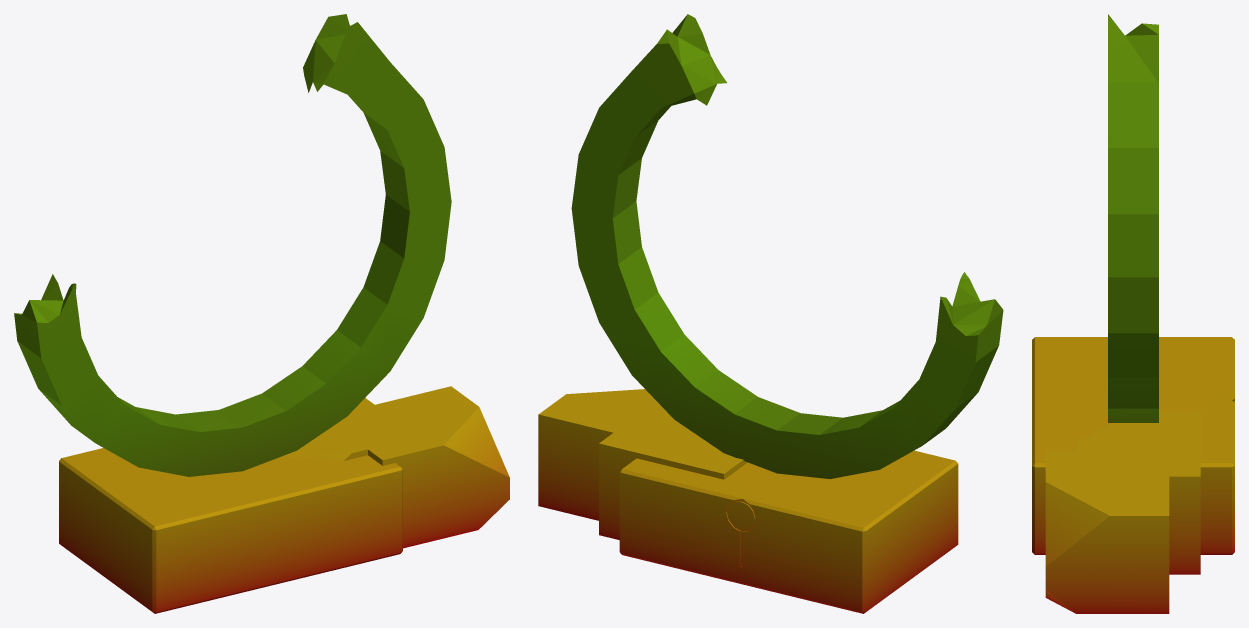
Rendered from ring_monument_broken.glb.
The picture shows the model from 3 angles, left to right: view 1: azimuth 30°, elevation 25°; view 2: azimuth 150°, elevation 25°; view 3: azimuth 270°, elevation 25°; orthographic projection. The views are drawn at different scales.
Visible parts, largest first — view 1: ring_monument_broken; view 2: ring_monument_broken; view 3: ring_monument_broken.
Part boxes in pixels (left/top/right/bottom): ring_monument_broken: left=14, top=14, right=509, bottom=613; ring_monument_broken: left=538, top=14, right=1003, bottom=613; ring_monument_broken: left=1032, top=14, right=1234, bottom=613.
Size of what is drawn, in the model's own units: 5.31 by 5.82 by 2.
